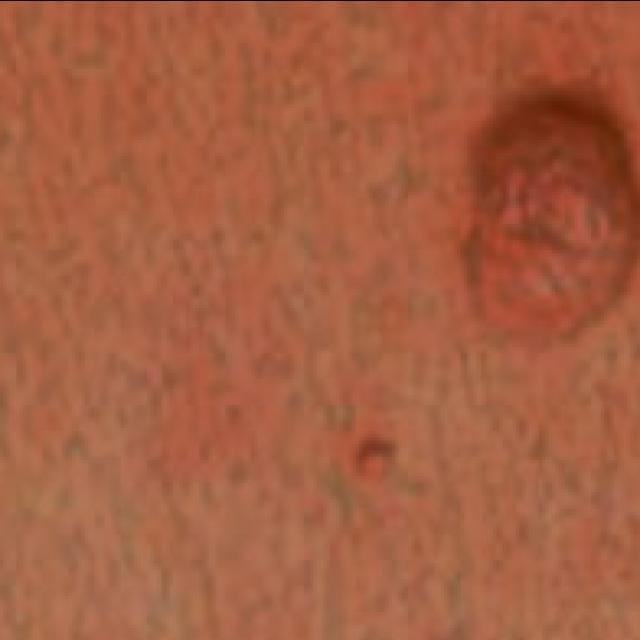wart: (457, 90, 640, 362), (349, 436, 392, 478)
